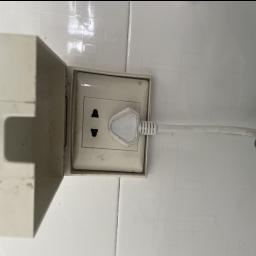outlet: (67, 69, 161, 178)
